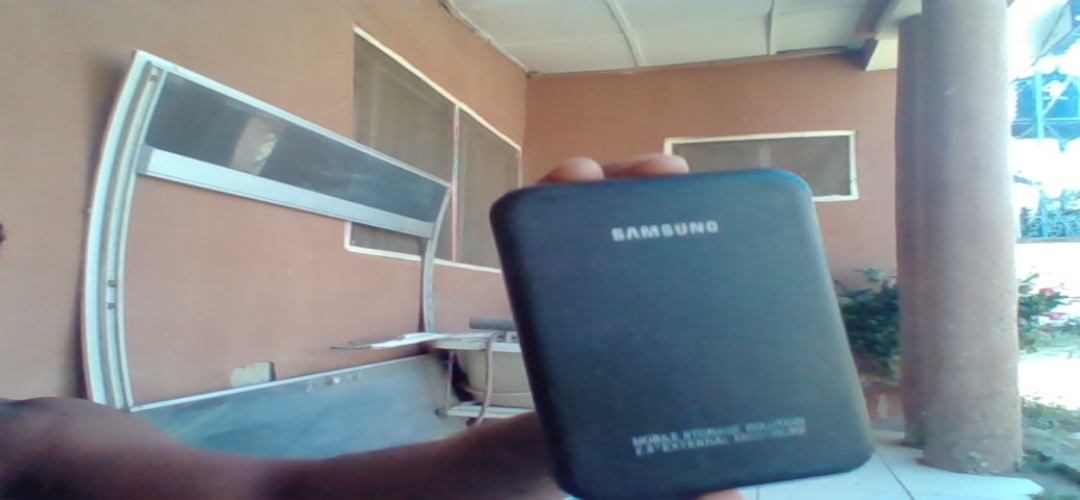hard_disk_case: (495, 176, 880, 494)
